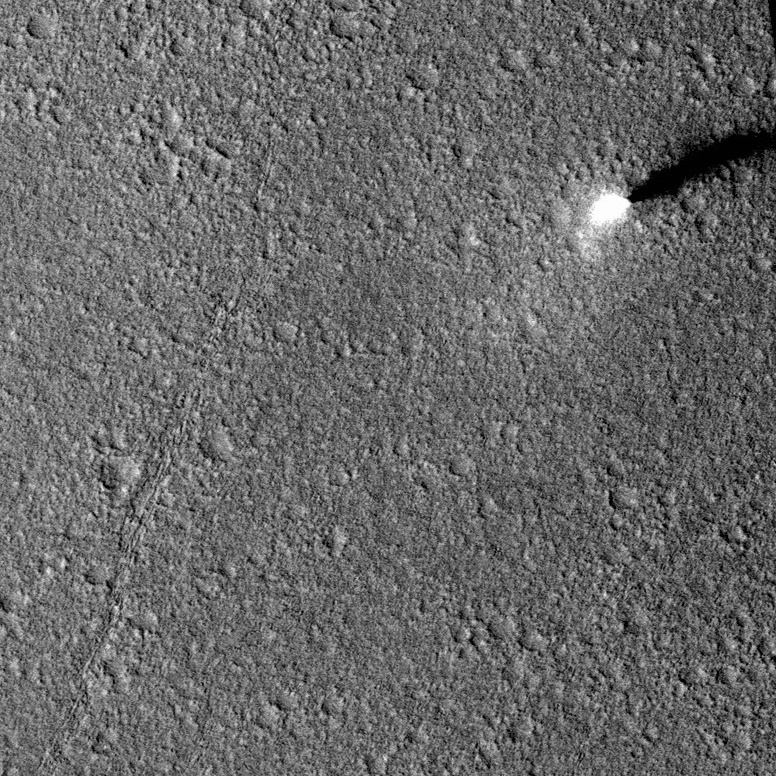dust_devil: (582, 123, 776, 238)
